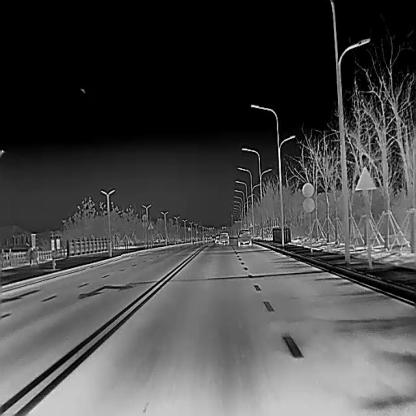car: (237, 229, 251, 245), (218, 232, 230, 244), (215, 234, 219, 243)
